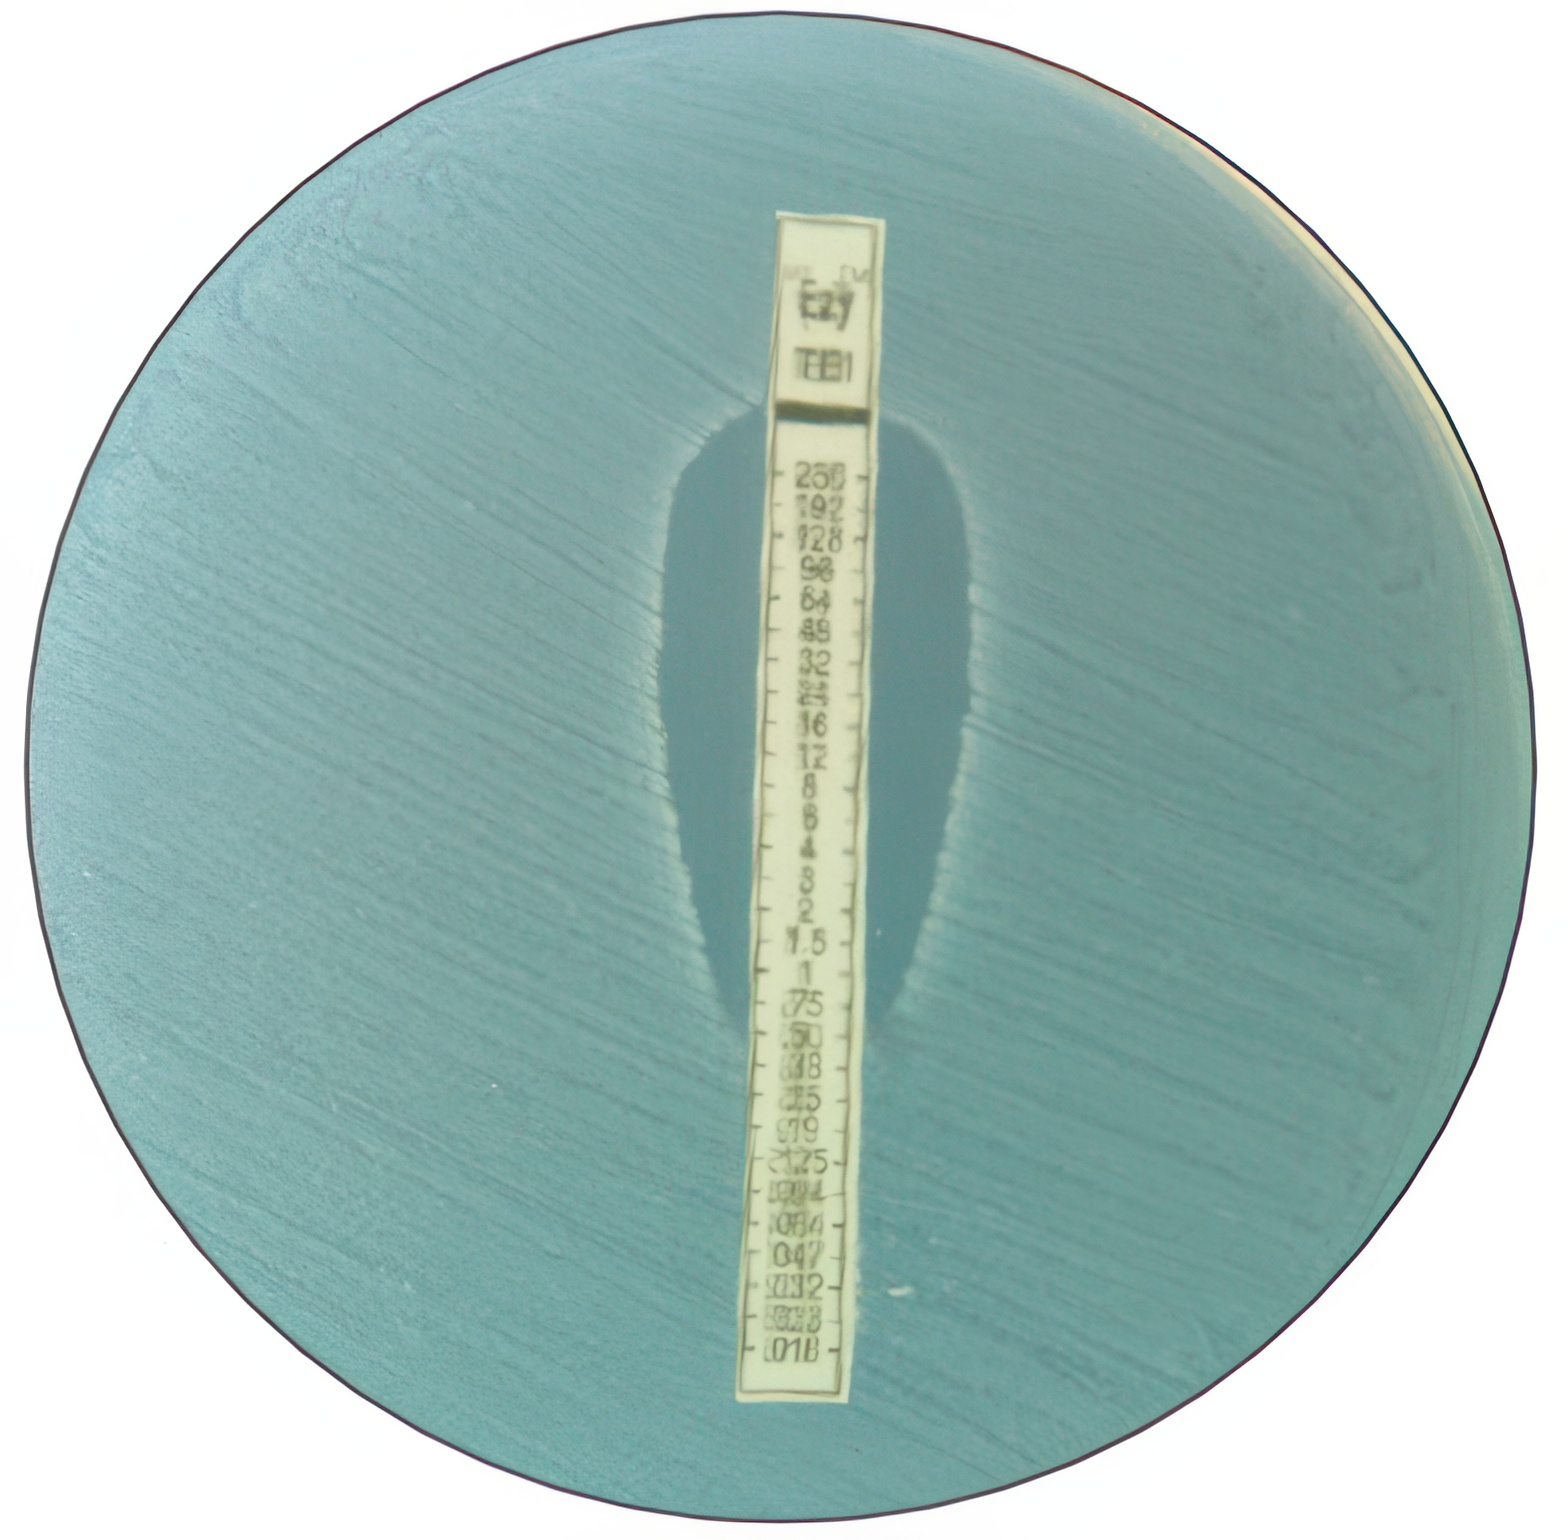line: (735, 206, 890, 1409)
zone: (653, 406, 973, 1018)
